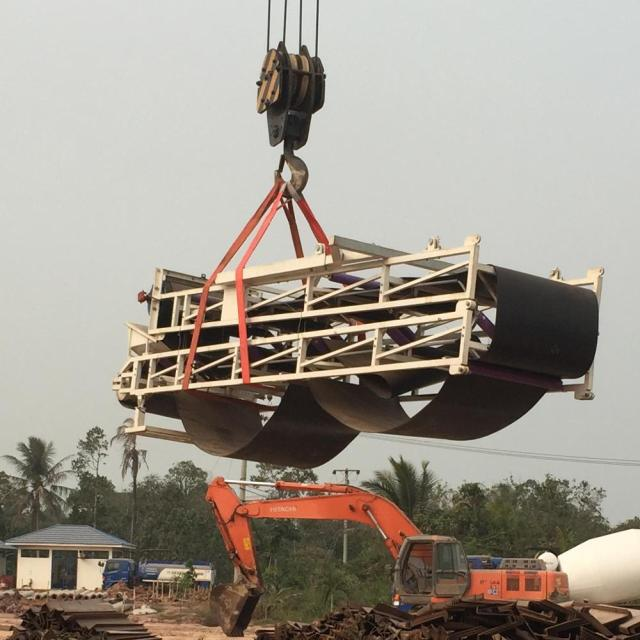conveyor: (132, 224, 604, 488)
